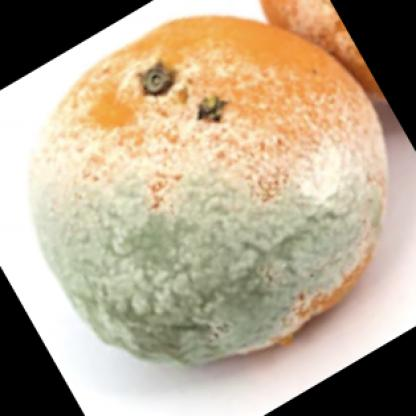rotten_orange: (18, 6, 389, 359)
